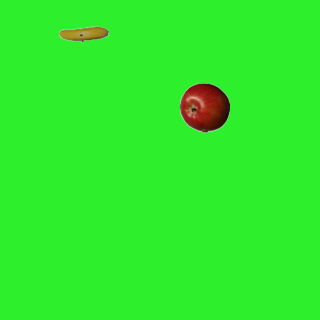Apple Braeburn: (179, 82, 229, 132)
Banana: (58, 9, 108, 59)
